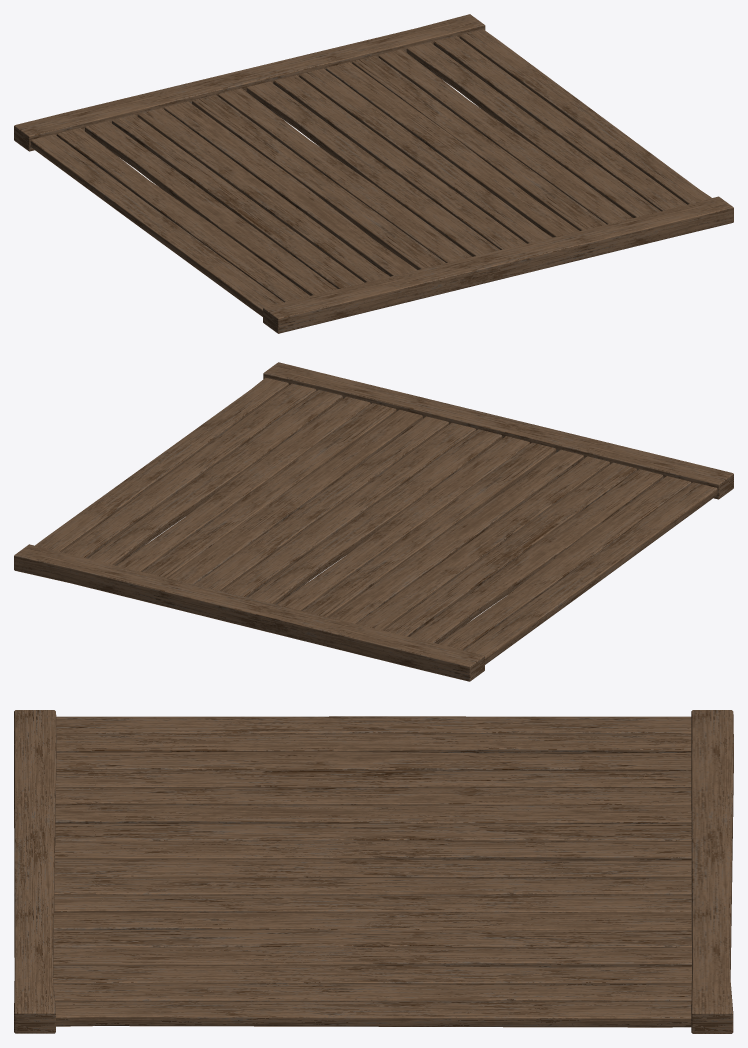
The model's file is SM_floor_module_wood_03.fbx.
3 renders of one model, top to bottom at view 1: azimuth 30°, elevation 25°; view 2: azimuth 150°, elevation 25°; view 3: azimuth 270°, elevation 25°, orthographic. The views are drawn at different scales.
Visible parts, largest first — view 1: SM_floor_module_wood_03; view 2: SM_floor_module_wood_03; view 3: SM_floor_module_wood_03.
Boxes of the visible parts, x1=… form: SM_floor_module_wood_03: x1=14, y1=14, x2=733, y2=333; SM_floor_module_wood_03: x1=14, y1=362, x2=733, y2=681; SM_floor_module_wood_03: x1=14, y1=710, x2=733, y2=1033.
Size of the model in its own units: 301 by 302 by 10.
1 material, 1 textured.
